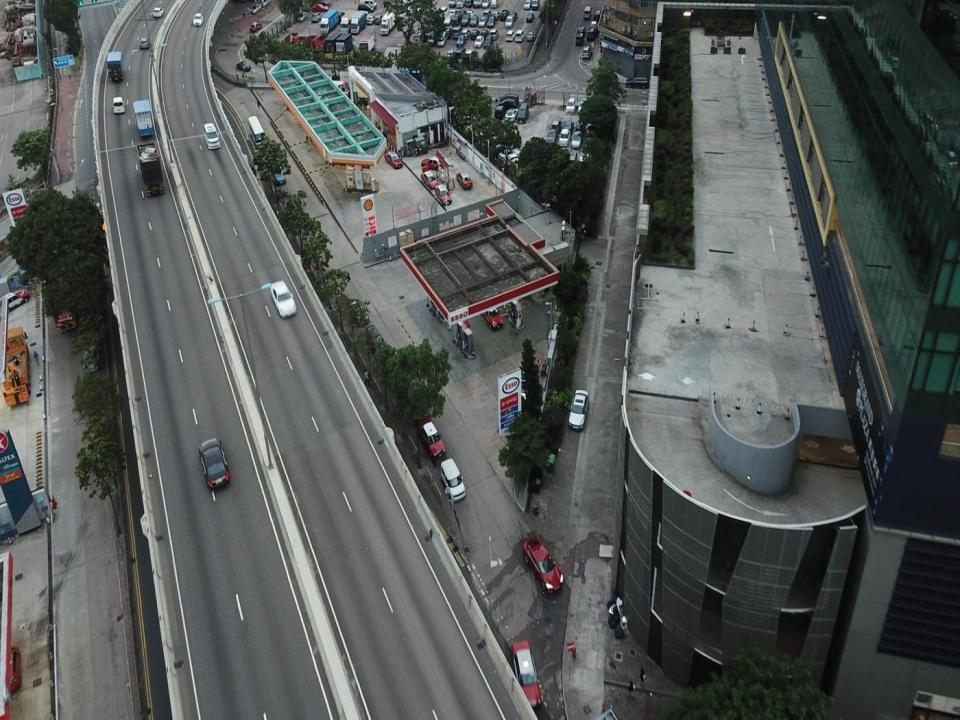car: (521, 538, 564, 593), (510, 640, 541, 706), (195, 434, 229, 489), (419, 411, 447, 460), (439, 458, 466, 500), (270, 279, 298, 319), (568, 389, 590, 432), (262, 154, 288, 185), (420, 151, 451, 172), (484, 303, 506, 331), (202, 122, 222, 151), (624, 70, 648, 92), (495, 92, 518, 112), (420, 171, 439, 193), (382, 150, 404, 169), (434, 184, 452, 206), (456, 171, 474, 190), (495, 100, 521, 113), (495, 103, 514, 119), (556, 130, 571, 149), (545, 127, 558, 148), (112, 95, 125, 115), (504, 106, 516, 124), (572, 129, 583, 148), (236, 60, 252, 72), (248, 2, 264, 14), (575, 25, 585, 44), (151, 6, 164, 19), (139, 36, 151, 50), (464, 49, 476, 63), (581, 45, 591, 61), (248, 21, 261, 33), (193, 14, 204, 27), (524, 12, 535, 24), (296, 10, 307, 22), (527, 29, 536, 43), (456, 34, 465, 48), (505, 16, 515, 26), (474, 36, 482, 46), (530, 1, 539, 9)
truck: (135, 143, 167, 199), (132, 98, 154, 138), (105, 51, 126, 84), (324, 30, 343, 60), (319, 8, 339, 35), (335, 33, 356, 57), (301, 34, 319, 61), (314, 33, 333, 57), (351, 9, 367, 35), (339, 8, 355, 33), (284, 31, 302, 53), (358, 32, 376, 53), (380, 12, 396, 35)
van: (516, 100, 528, 124), (565, 96, 575, 118), (586, 25, 598, 42), (514, 30, 524, 43), (583, 6, 592, 20), (507, 29, 515, 43), (483, 38, 491, 49)
